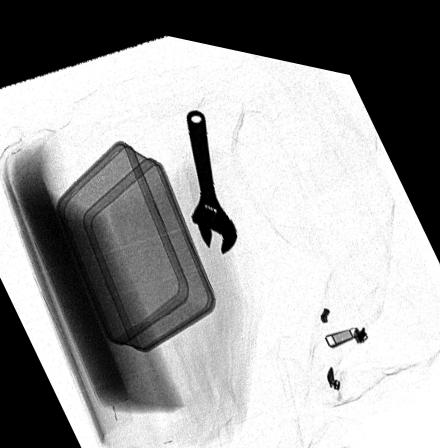Wrench: (186, 98, 239, 248)
